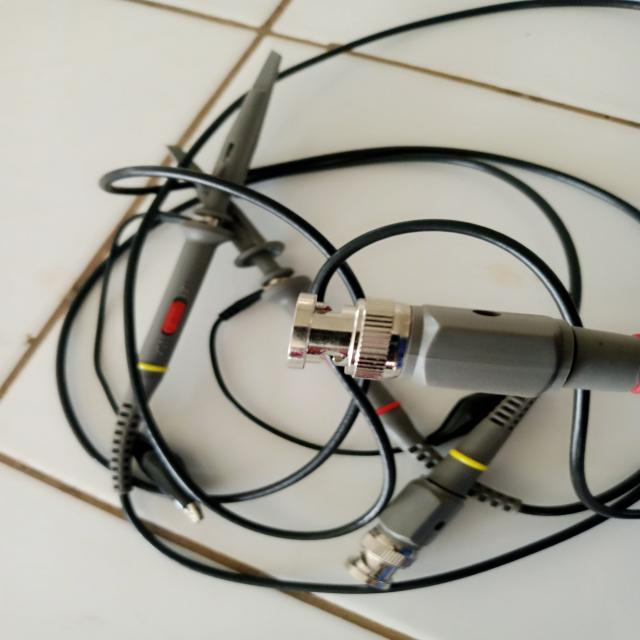CRO Probes: (62, 45, 626, 607)
